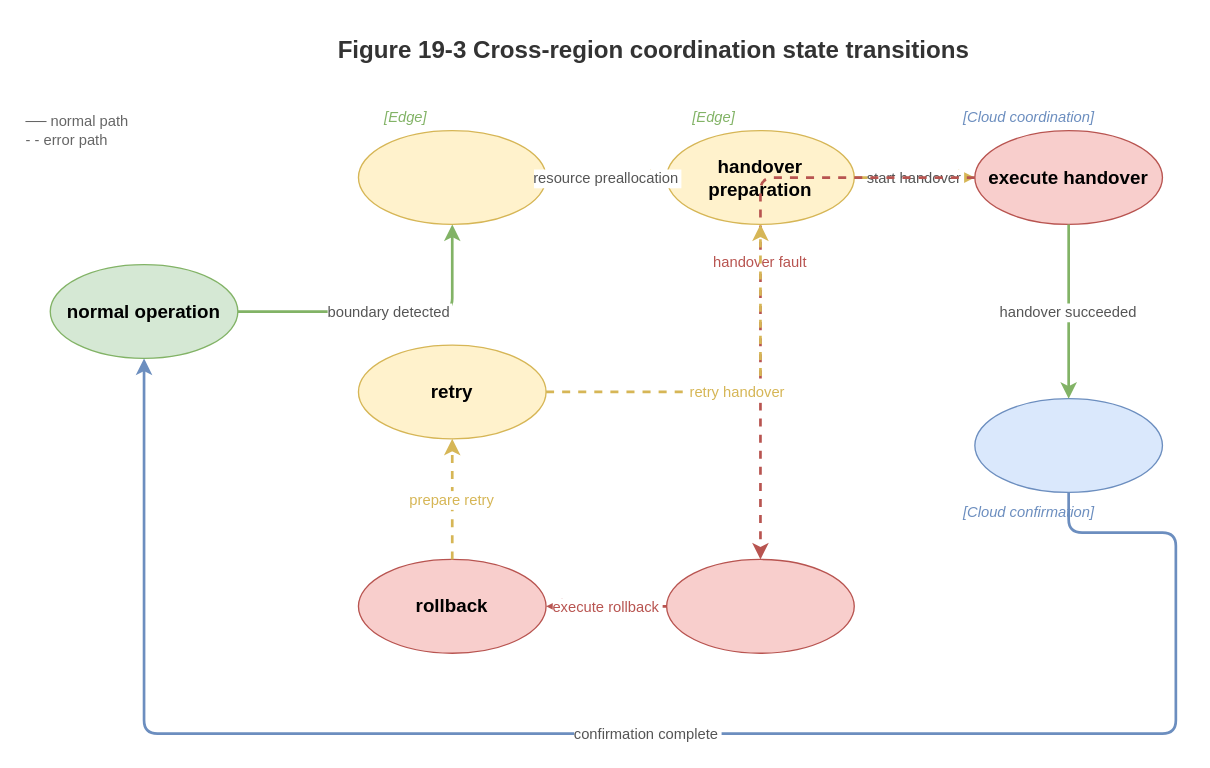
The diagram is 1210 pixels wide and 768 high, and some of its shapes have lost their labels. Here are the shapes that lost their labels. From the top down, the centre of each, then its label:
At (451,176): "approaching boundary".
At (1068,444): "new region confirmed".
At (759,605): "handover failed".
